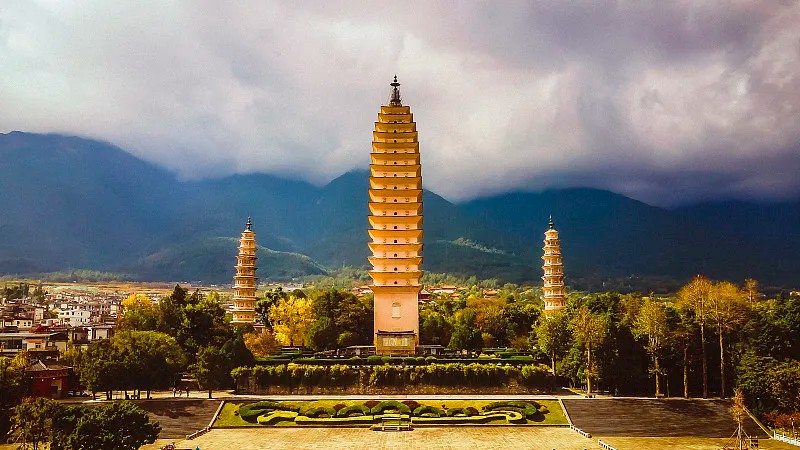ThreePagoda: (368, 74, 423, 346)
